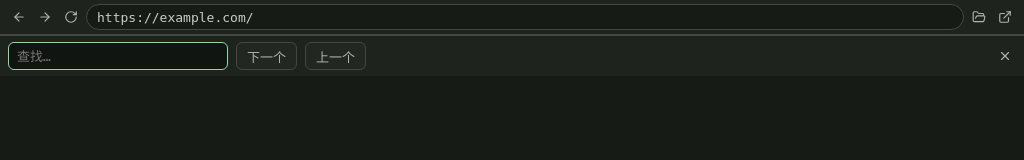
Test: BrowserTabView › 页面内搜索（design-find-in-page）：挂载注册唤起回调；唤起后输入发起 findInPage；导航清零计数
The image size is (1024, 160).
Type "hello" into the field with placeholder "查找…" at {"x": 118, "y": 56}, box [8,42,228,70]
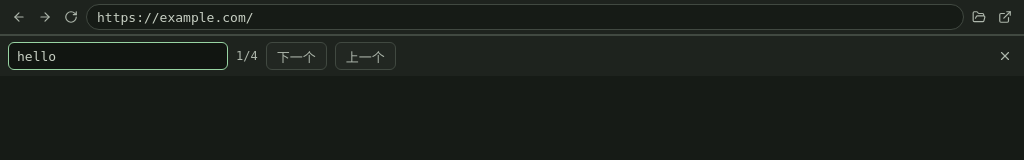
Check: the text "1/4" is shown, box [236,49,258,63]
Replace the text in the field named "输入地址" with "https://example.com/page2" at {"x": 525, "y": 17}, box [86,4,964,30]
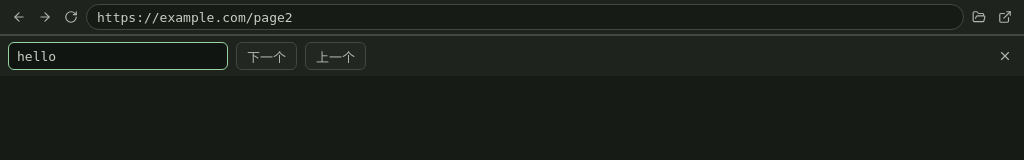
Check: the text "1/4" is gone
Press Escape in the field named "查找…", box [8,42,228,70]
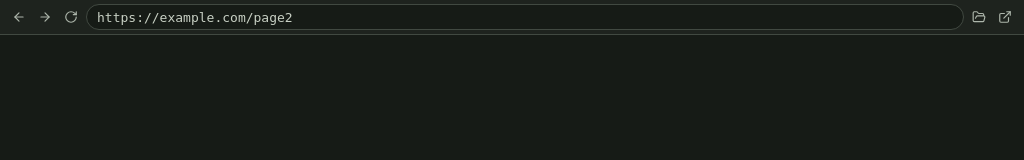
Check: the element with class "find-bar" is gone
